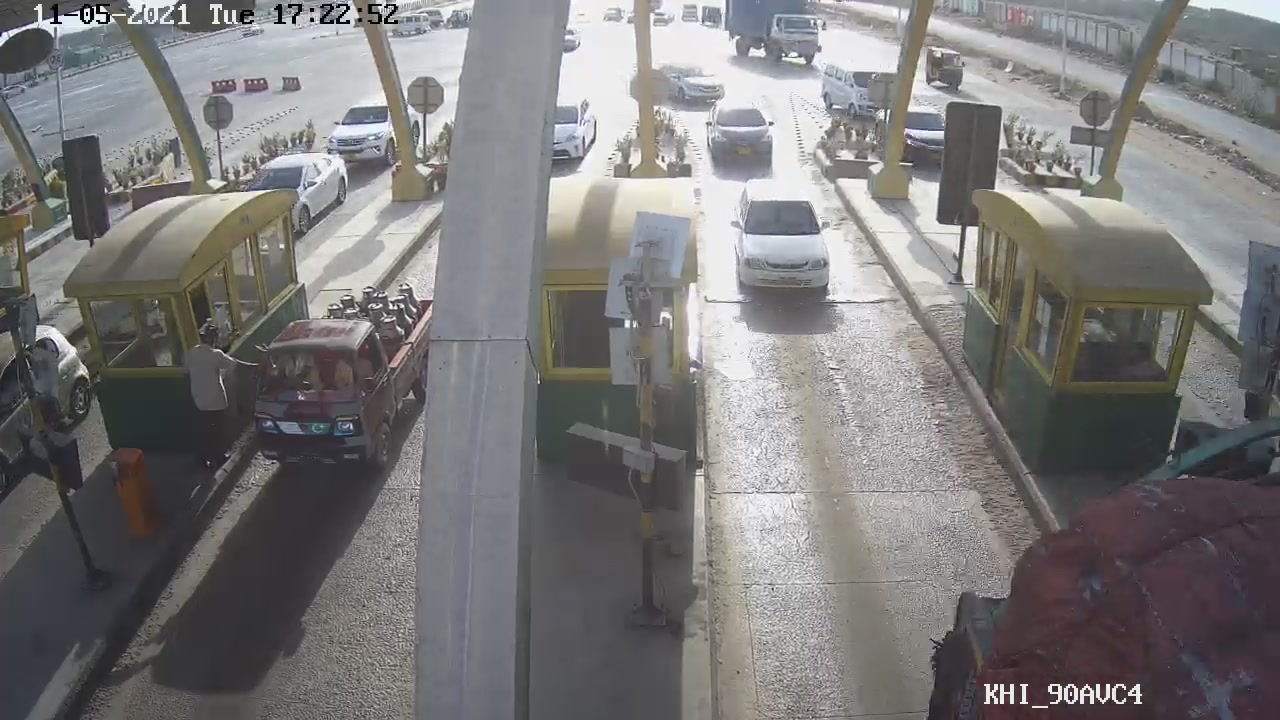F1: (720, 169, 841, 302)
